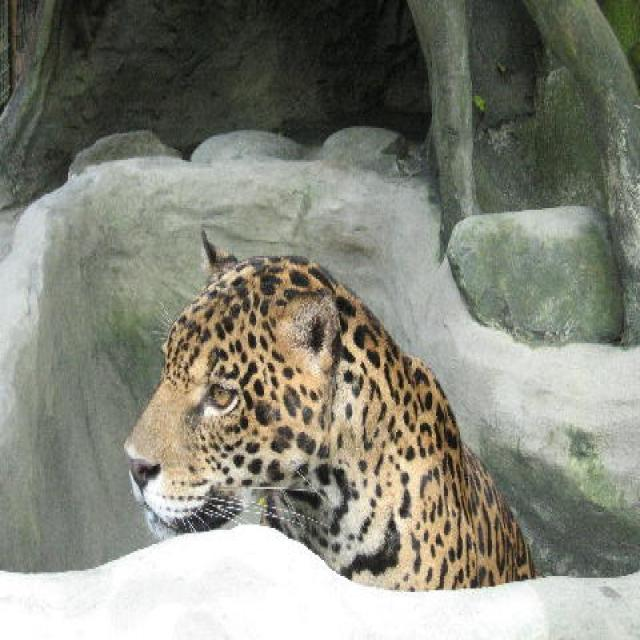Leopard: (114, 217, 542, 595)
